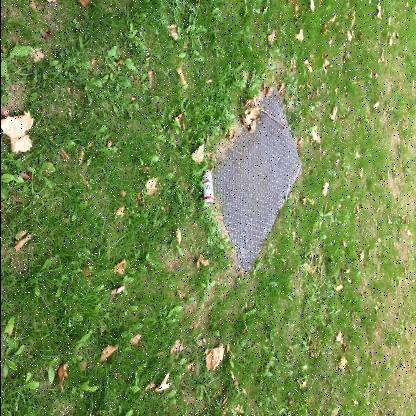metal: (201, 170, 213, 206)
